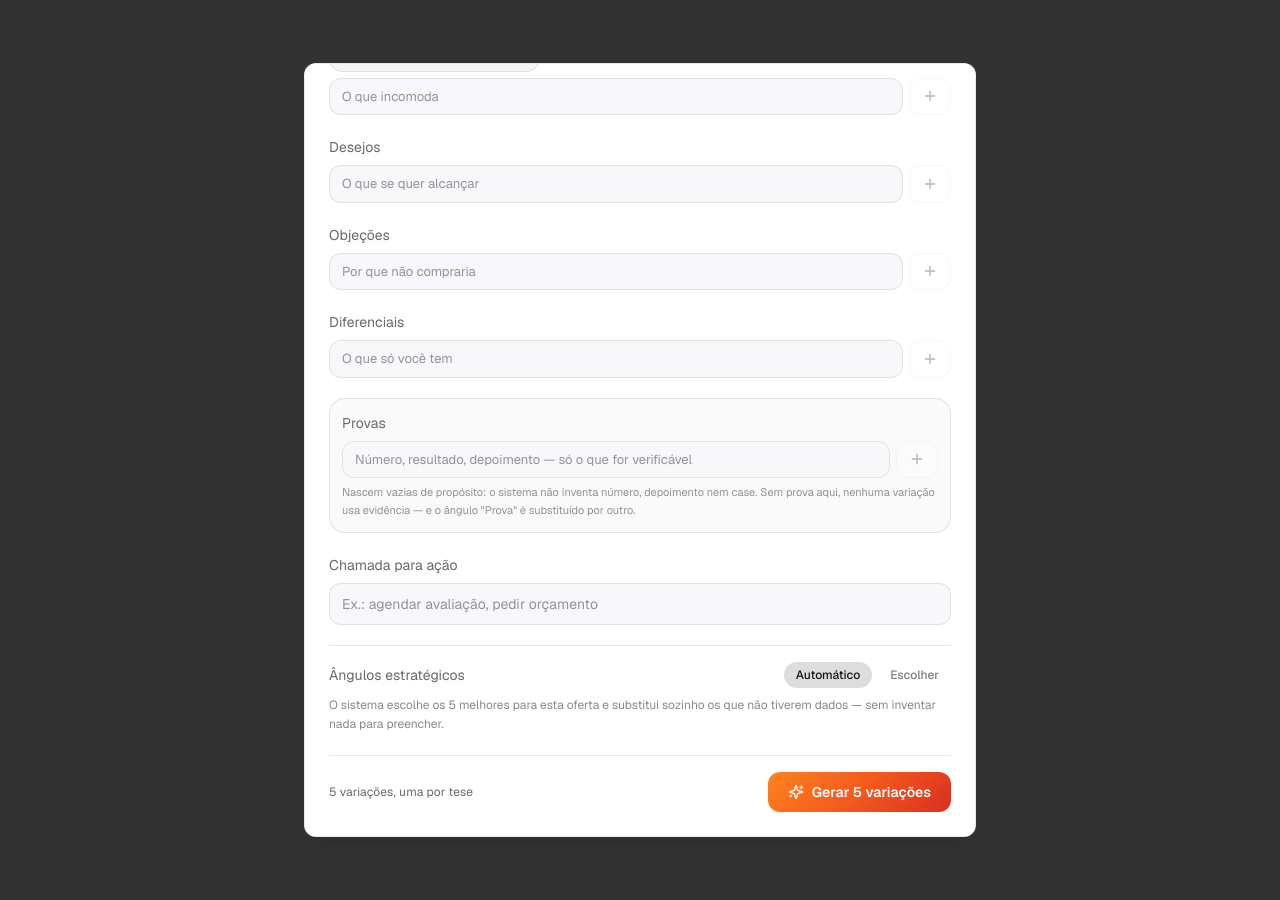
Test case: FatorCriativoDialog › escolher trava em 5 — não há sexto slot onde caber
(page scrolled)
Click the button "Escolher": (915, 675) [878,662,951,688]
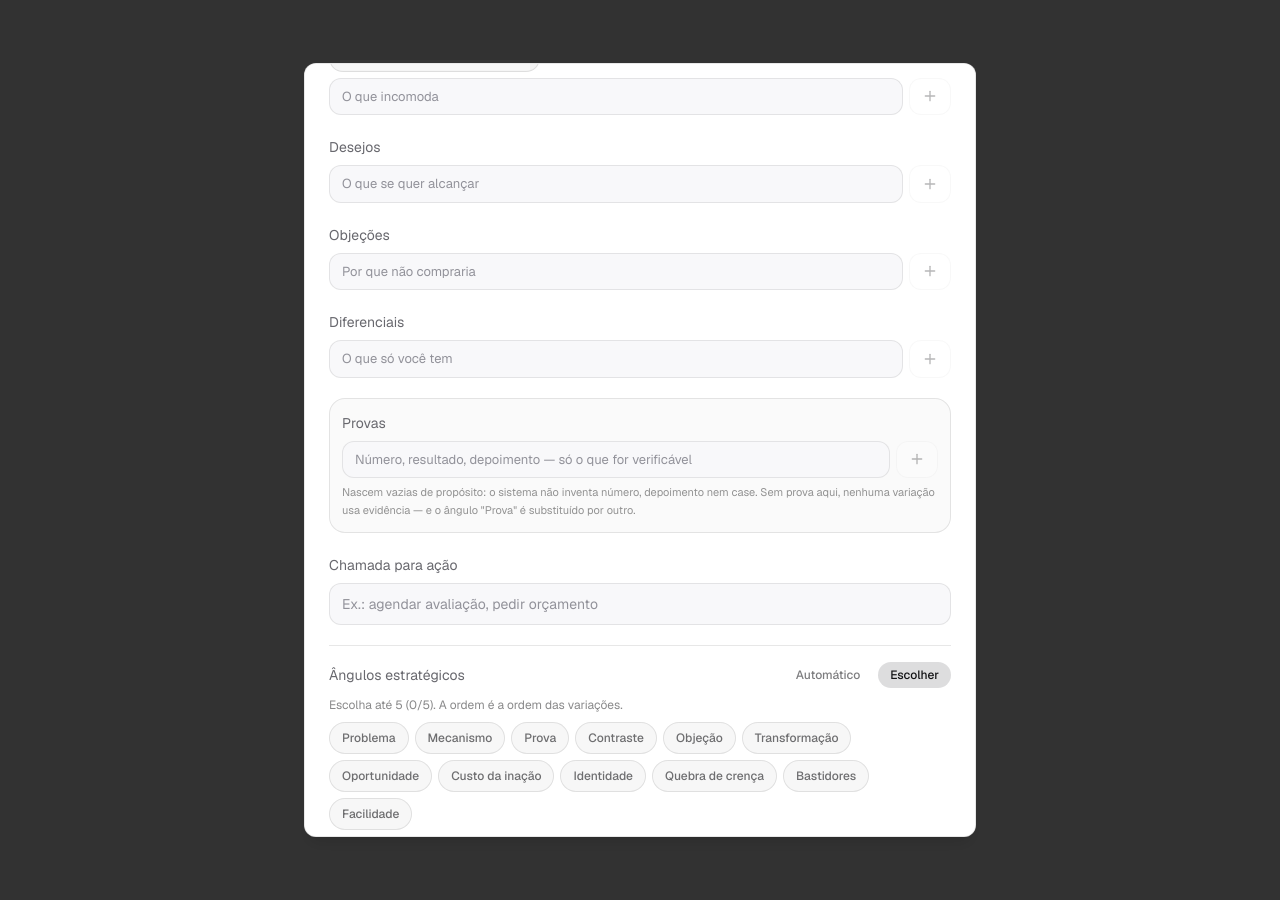
Click the button "Problema": (369, 738) [329,722,409,754]
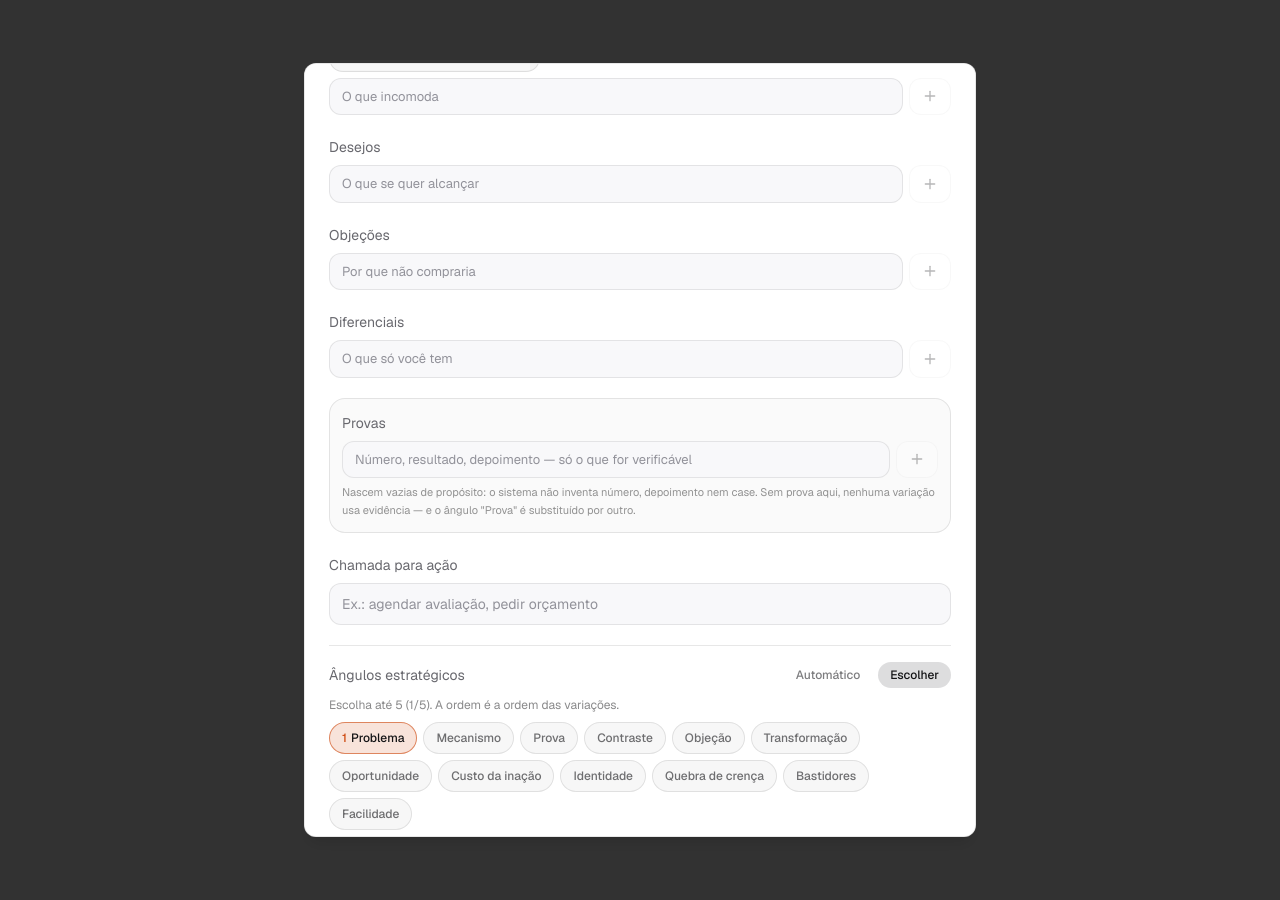
Click the button "Mecanismo": (469, 738) [423,722,514,754]
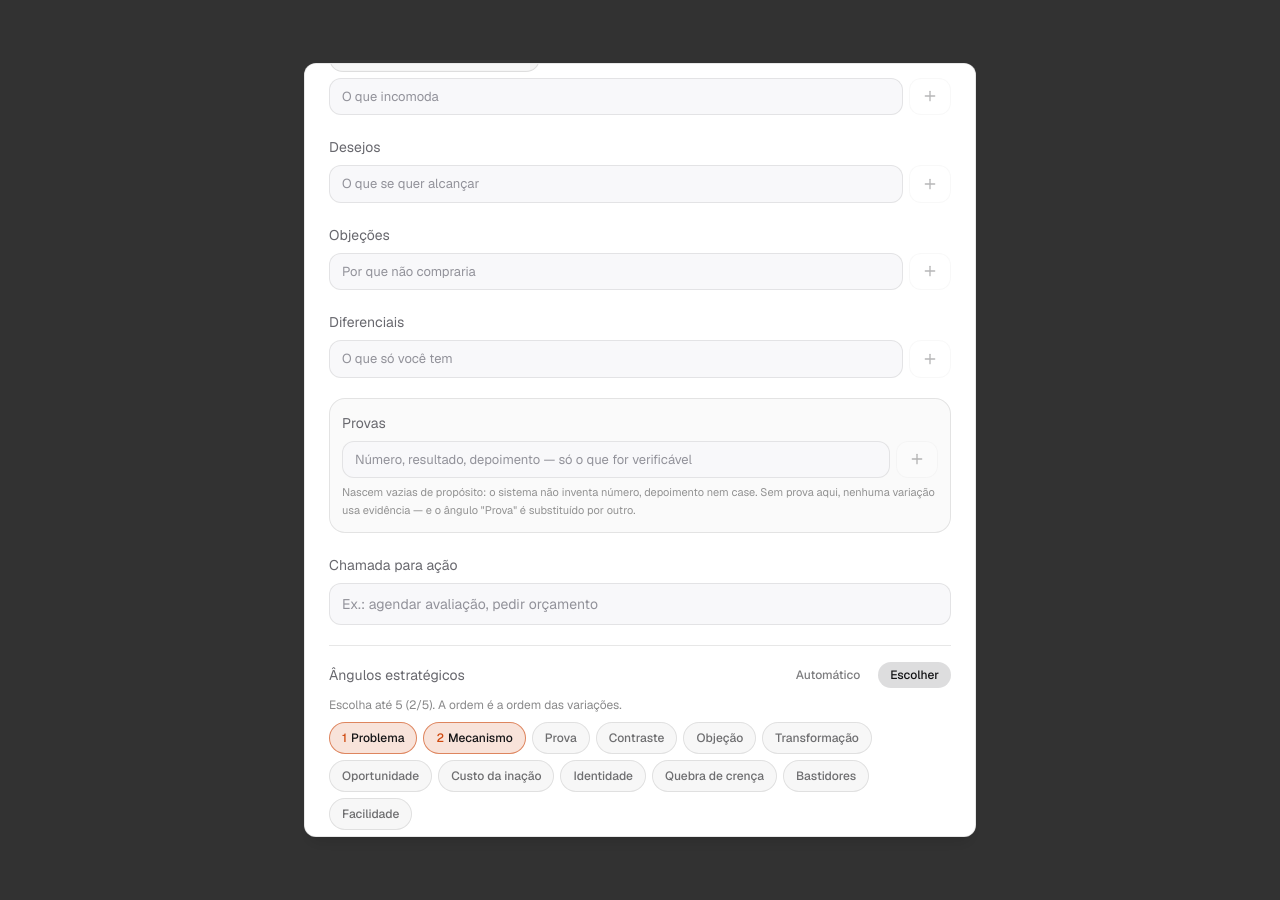
Click the button "Prova": (561, 738) [532,722,590,754]
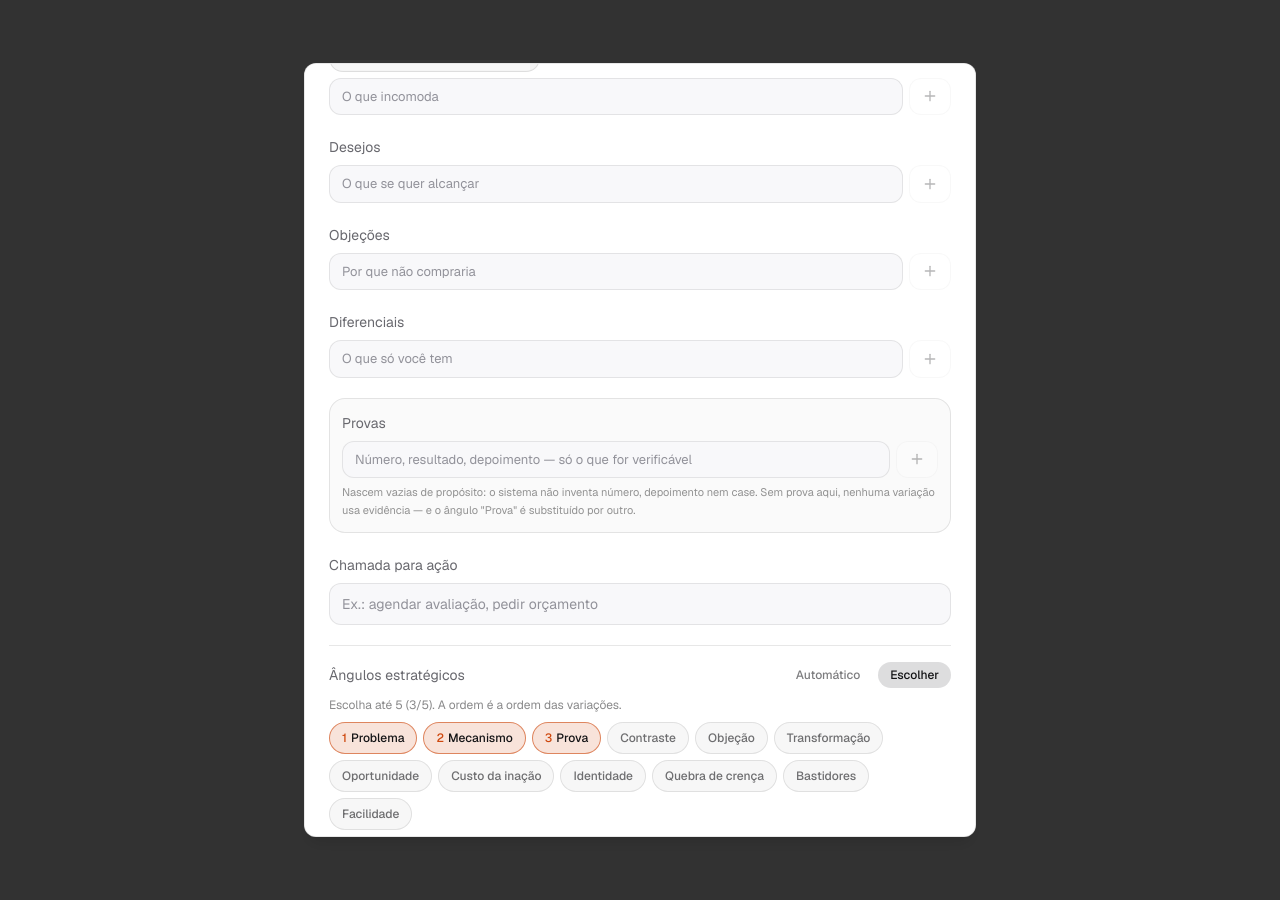
Click the button "Contraste": (648, 738) [607,722,689,754]
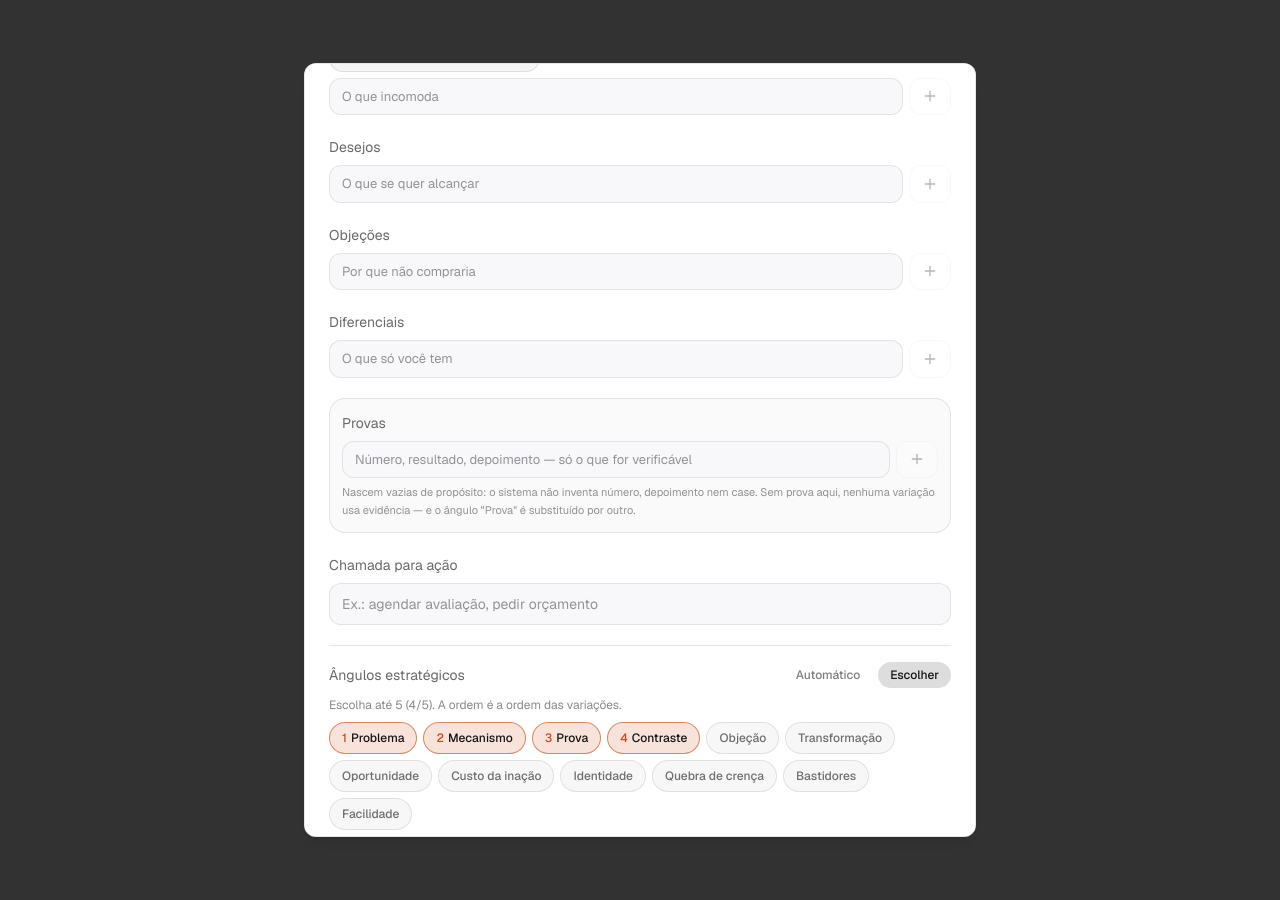
Click the button "Objeção": (743, 738) [706,722,779,754]
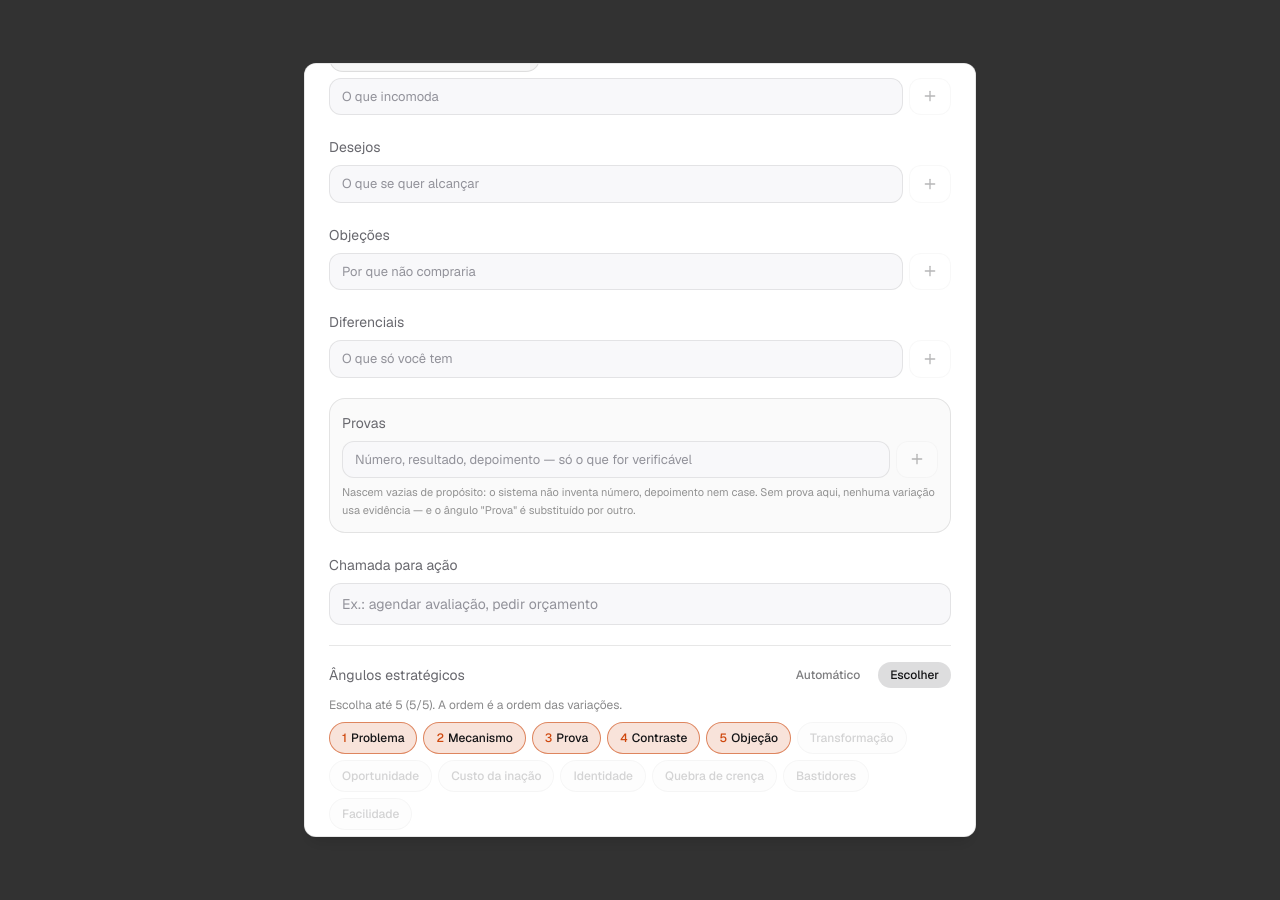
Now the button "Identidade" is disabled, box [560,760,646,792]
